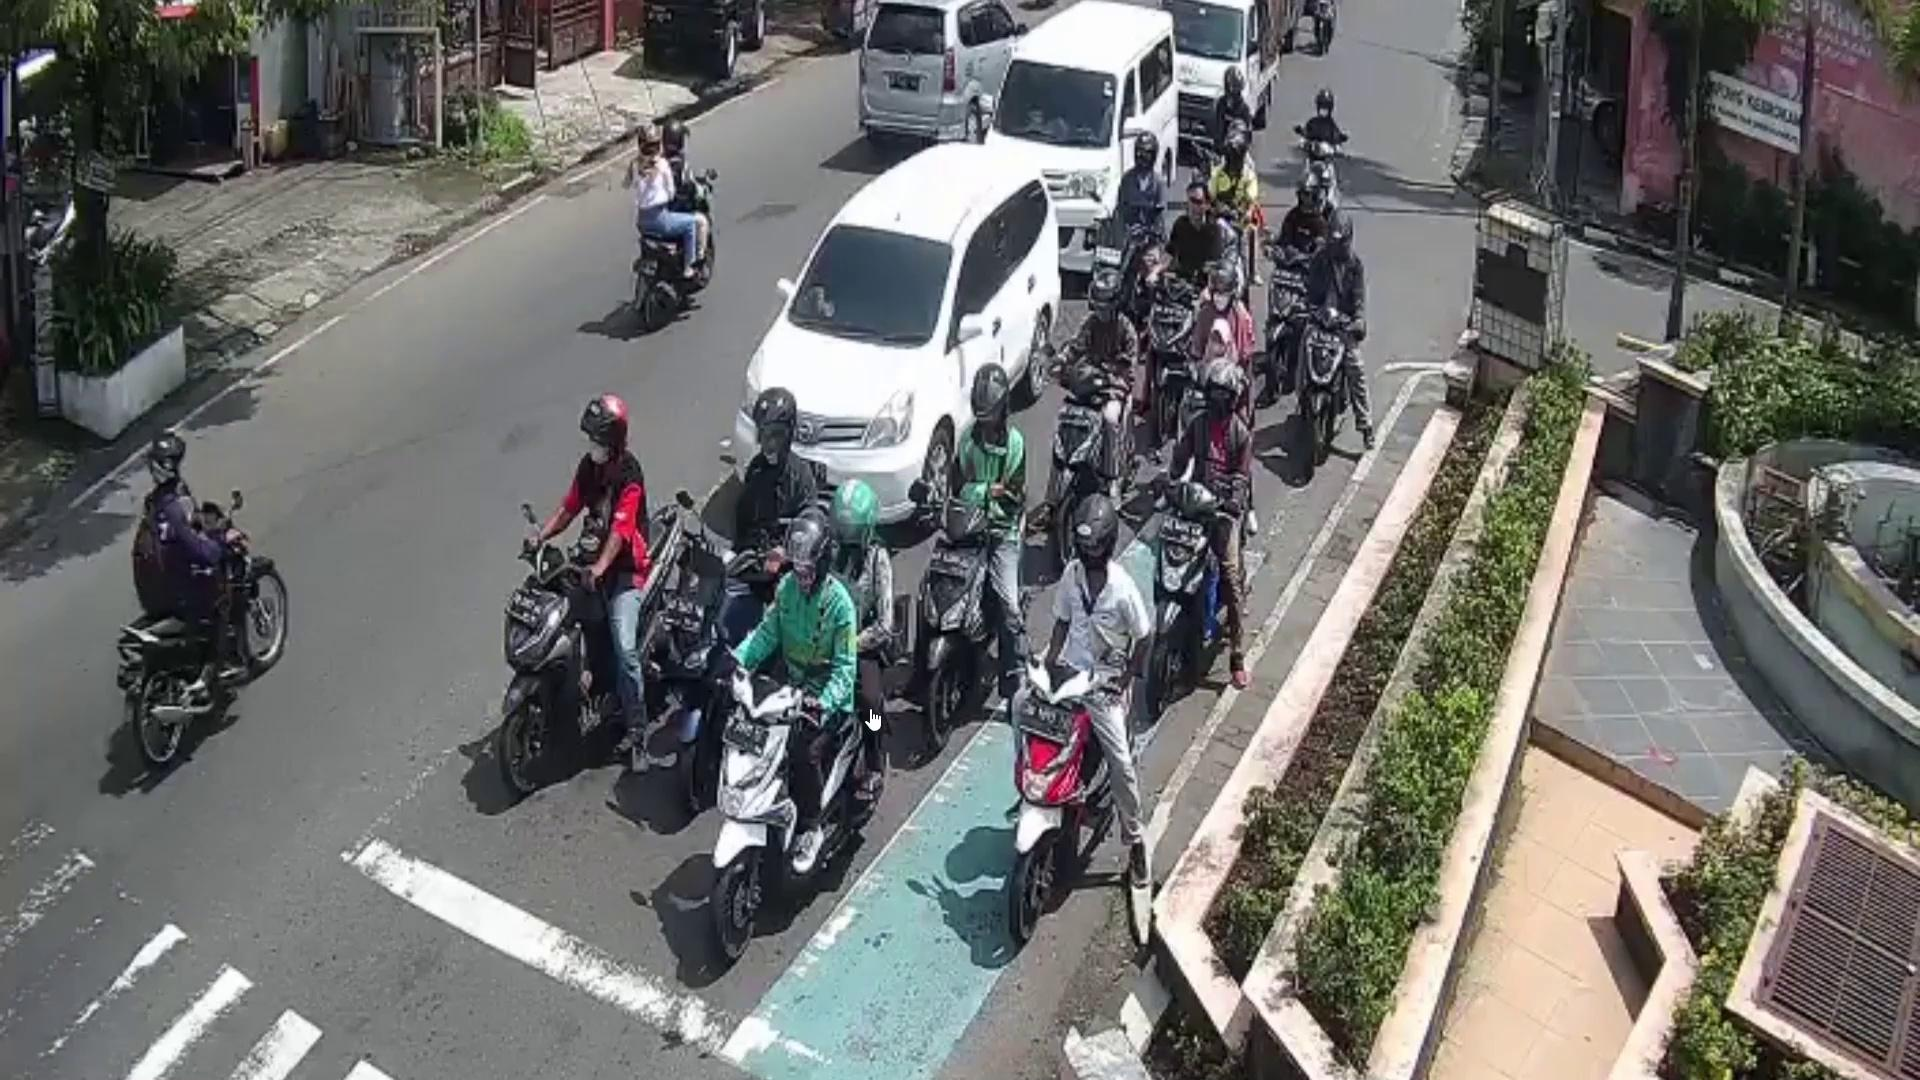car: (728, 137, 1062, 538), (989, 0, 1180, 273), (860, 0, 1017, 146), (1163, 0, 1280, 144)
motorbike: (489, 501, 702, 800), (115, 500, 287, 769), (711, 669, 870, 959), (1013, 653, 1116, 936), (914, 501, 998, 753), (1149, 491, 1236, 724), (634, 178, 715, 330), (1056, 360, 1131, 513), (1303, 310, 1358, 465)
